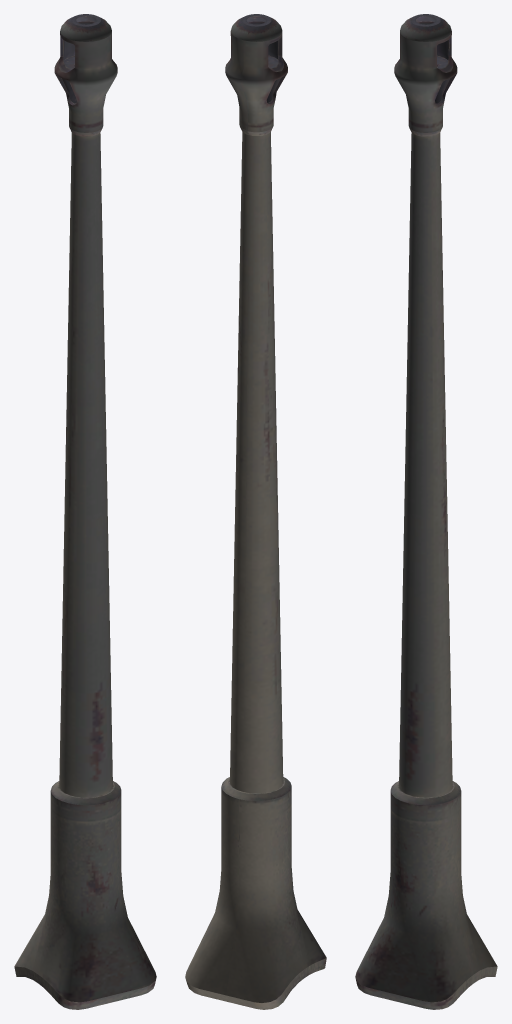
The model's file is Gun_02.glb.
3 renders of one model, left to right at view 1: azimuth 30°, elevation 25°; view 2: azimuth 150°, elevation 25°; view 3: azimuth 330°, elevation 25°, orthographic.
Parts seen in each view (by area): view 1: set_0_group_0; view 2: set_0_group_0; view 3: set_0_group_0.
Boxes of the visible parts, <box> form: set_0_group_0: <box>14,14,156,1009</box>; set_0_group_0: <box>185,14,326,1009</box>; set_0_group_0: <box>355,14,497,1009</box>.
Size of the model in its own units: 0.5219 by 5.04 by 0.5674.
Materials: 1 (1 with a texture image).
